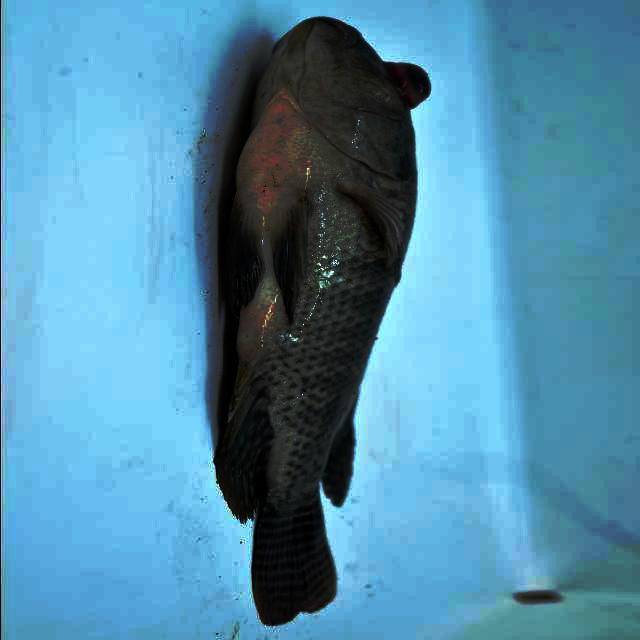Streptococcus: (215, 18, 429, 624)
